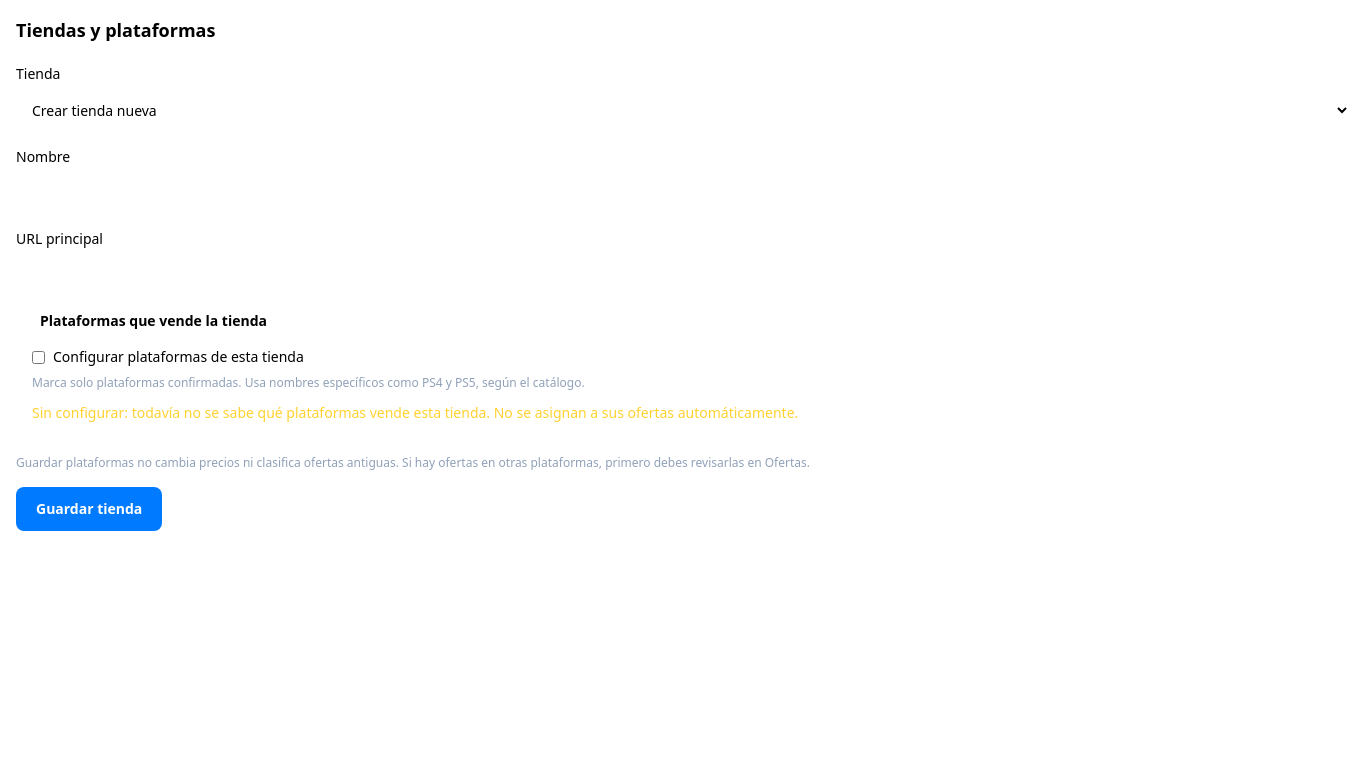
Configuración de plataformas de una tienda › un conflicto con ofertas existentes conserva la configuración y no anuncia éxito
The image size is (1366, 768).
Select "Tienda de consolas sintética" in the dropdown labelled "Tienda". click: (683, 110)
box: [16, 90, 1350, 131]
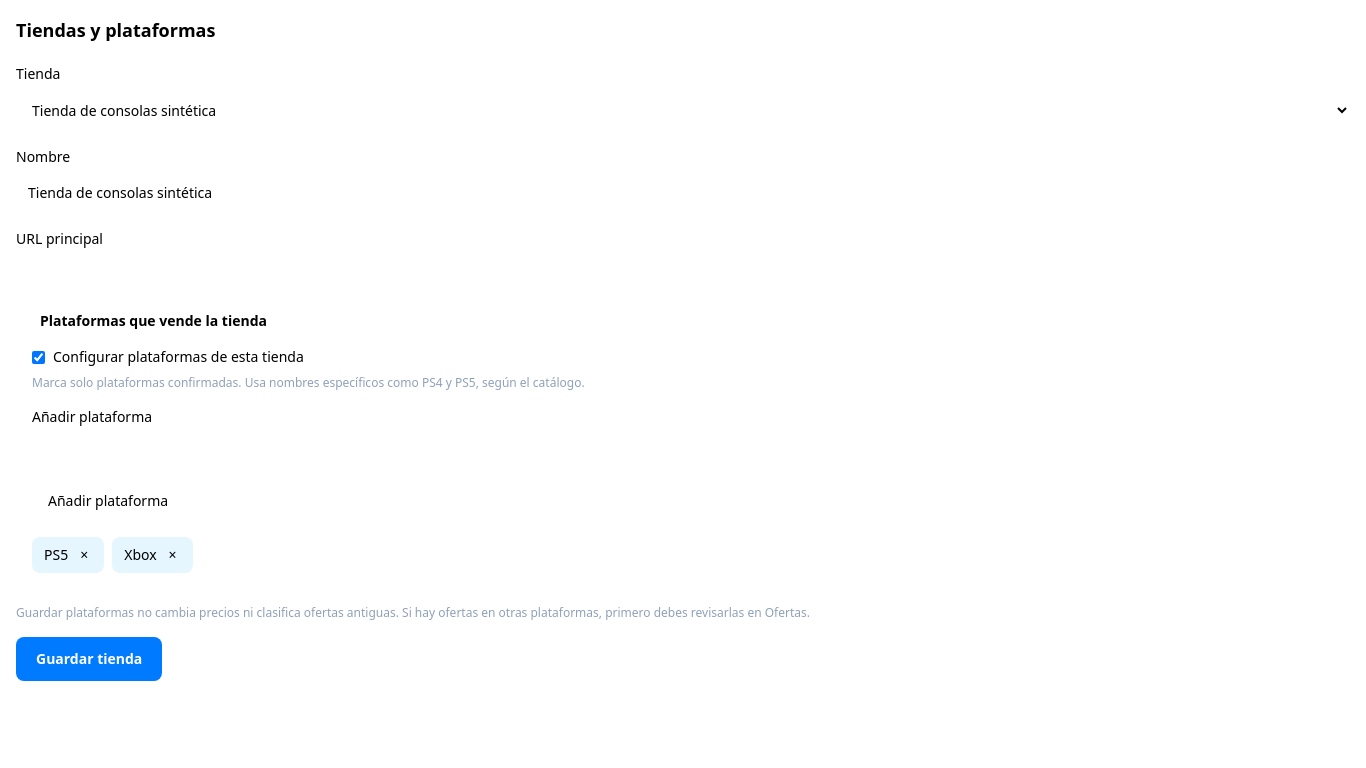
Click the button named "Quitar PS5". click: (84, 555)
box: [76, 545, 92, 565]
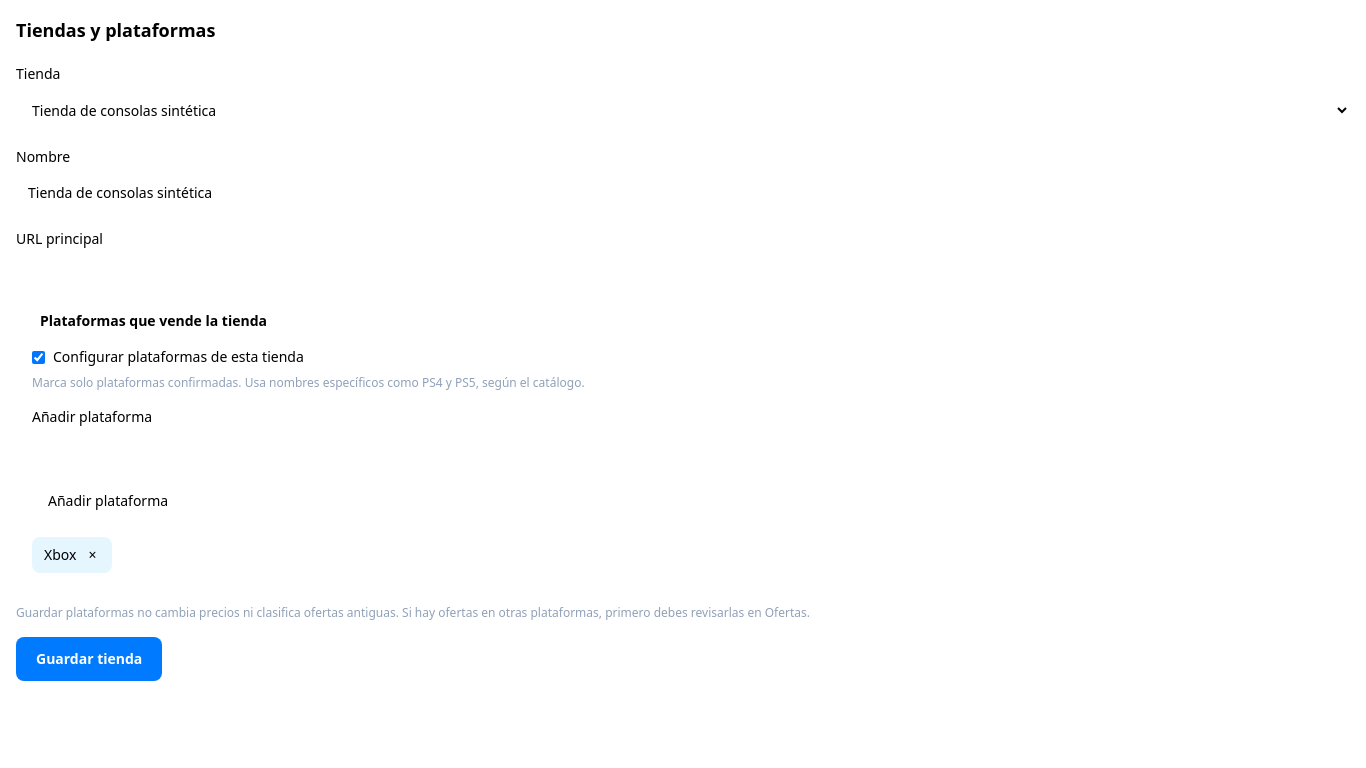
Click the button "Guardar tienda". click: (89, 659)
box: [16, 637, 162, 681]
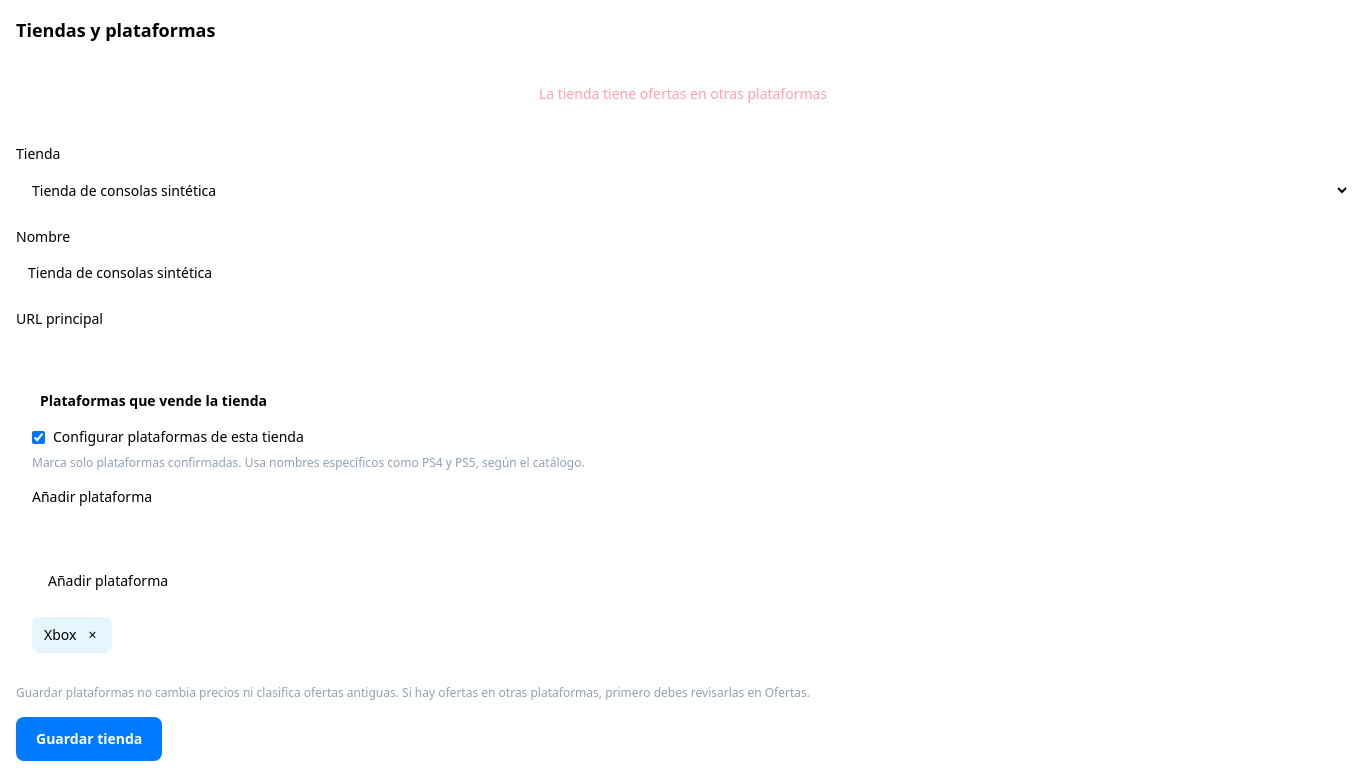
Now the button named "Quitar Xbox" is shown, box [84, 625, 100, 645]
Now the message shows "ofertas en otras plataformas", box [539, 84, 827, 103]
